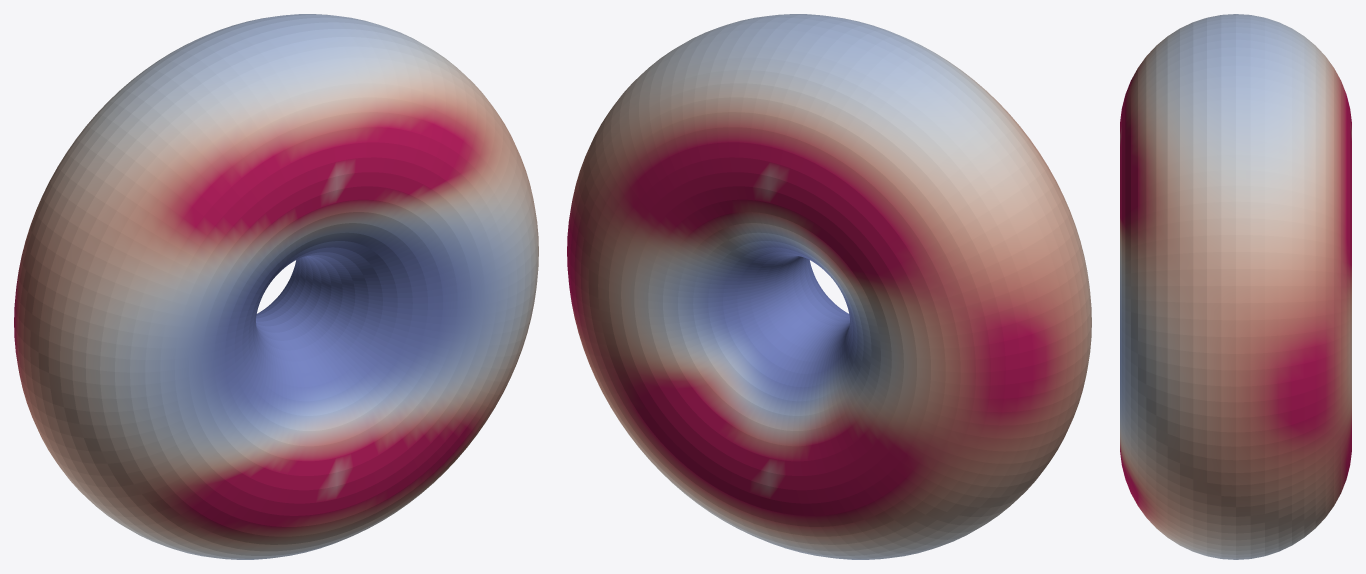
3 views of the same model, side by side, from view 1: azimuth 30°, elevation 25°; view 2: azimuth 150°, elevation 25°; view 3: azimuth 270°, elevation 25° (orthographic). The views are drawn at different scales.
Parts seen in each view (by area): view 1: world; view 2: world; view 3: world.
Boxes of the visible parts, <box> form: world: <box>14,14,538,559</box>; world: <box>567,14,1091,559</box>; world: <box>1120,14,1351,559</box>.
Size of the model in its own units: 19.73 by 19.73 by 8.38.
